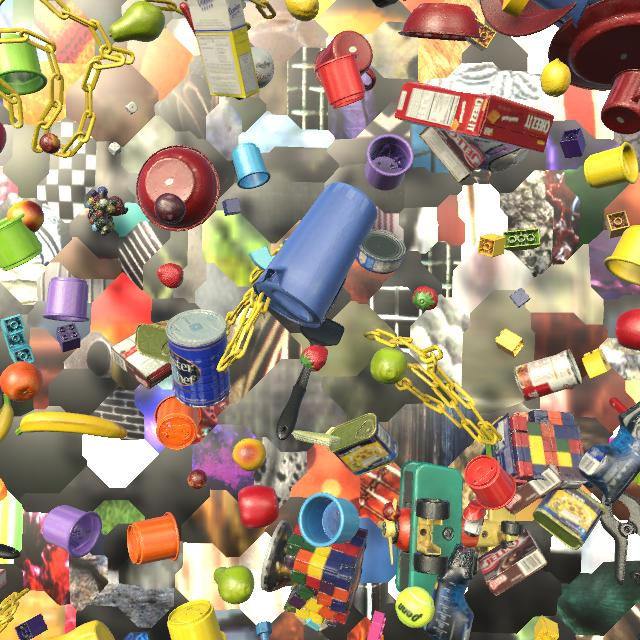ycb_002_master_chef_can: (166, 309, 231, 408)
ycb_003_cracker_box: (395, 82, 554, 153)
ycb_004_sugar_box: (187, 0, 260, 98)
ycb_005_tomato_soup_can: (514, 350, 582, 401)
ycb_006_mustard_bottle: (42, 620, 115, 640)
ycb_007_tuna_fish_can: (356, 229, 406, 274)
ycb_008_pudding_box: (478, 528, 547, 596), (419, 126, 487, 183), (111, 333, 172, 390), (505, 463, 562, 515)
ycb_009_gelatin_box: (0, 569, 7, 588)
ycb_010_potted_meat_can: (327, 413, 399, 476), (533, 488, 606, 550), (135, 320, 171, 364)
ycb_011_banana: (15, 412, 127, 438), (0, 394, 14, 444)
ycb_012_strawberry: (300, 345, 328, 372), (157, 263, 184, 289), (412, 286, 438, 311)
ycb_013_apple: (238, 485, 279, 529), (615, 308, 640, 351), (0, 122, 7, 153)
ycb_014_lemon: (541, 58, 571, 97), (285, 0, 319, 22)
ycb_015_peach: (7, 200, 45, 233), (232, 438, 266, 472)
ycb_016_pear: (109, 1, 165, 42), (214, 565, 254, 604), (370, 347, 408, 385)
ycb_017_orange: (0, 361, 43, 401)
ycb_018_plum: (154, 193, 186, 224)
